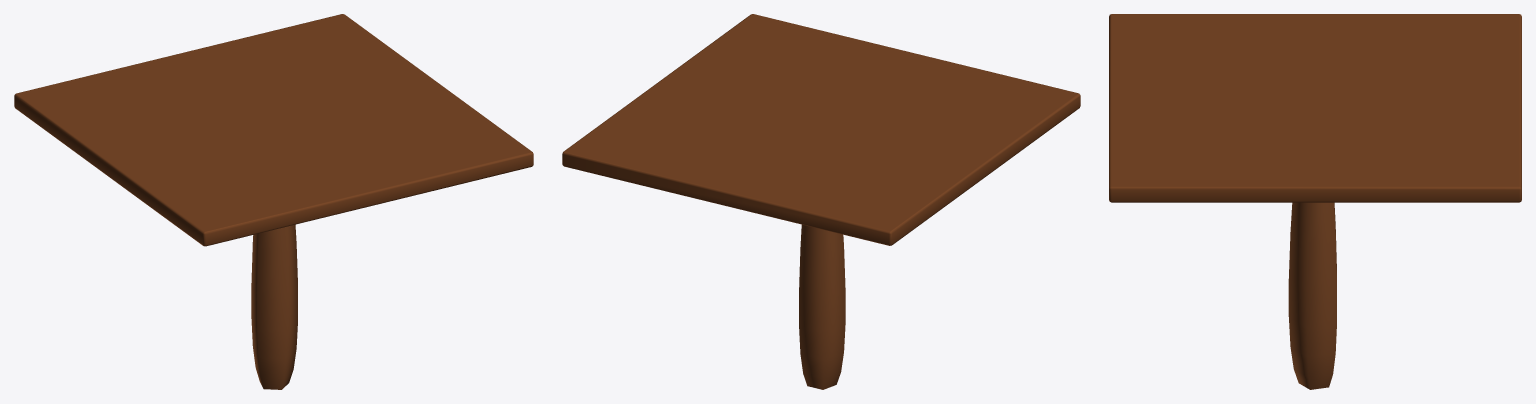
File: Round Table(1).glb
3 renders of one model, left to right at view 1: azimuth 30°, elevation 25°; view 2: azimuth 150°, elevation 25°; view 3: azimuth 270°, elevation 25°, orthographic. The views are drawn at different scales.
Visible parts, largest first — view 1: id0; view 2: id0; view 3: id0.
Boxes of the visible parts, x1=… form: id0: x1=14, y1=14, x2=533, y2=389; id0: x1=562, y1=14, x2=1080, y2=389; id0: x1=1109, y1=14, x2=1521, y2=389.
Size of the model in its own units: 0.822 by 0.6216 by 0.822.
